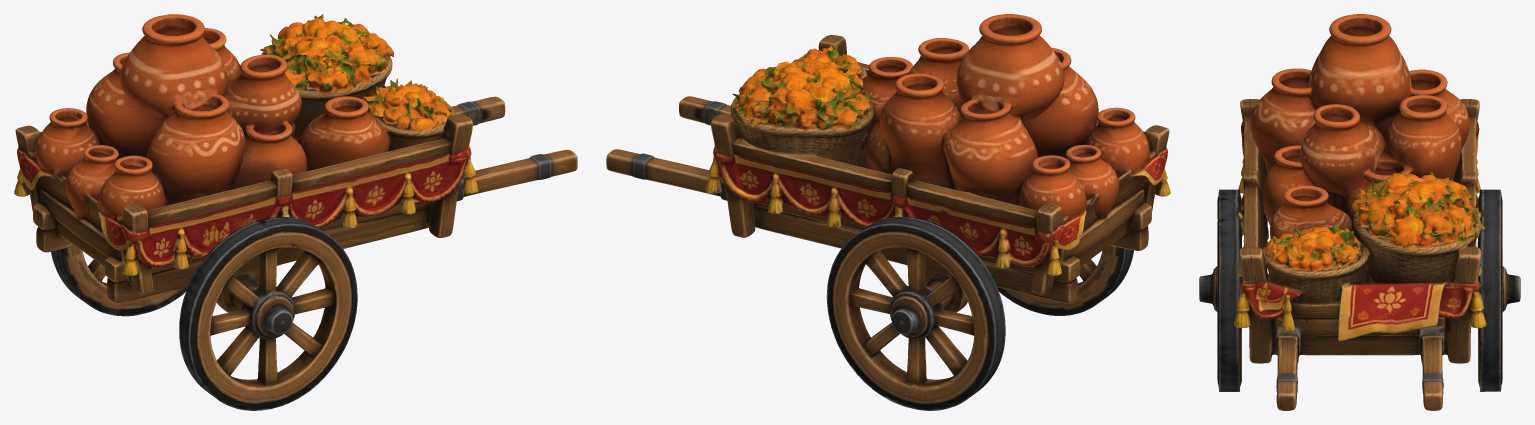
File: marigold_market_cart_mobile.glb
3 views of the same model, side by side, from view 1: azimuth 30°, elevation 25°; view 2: azimuth 150°, elevation 25°; view 3: azimuth 270°, elevation 25° (orthographic).
Size of the model in its own units: 1.9 by 1.31 by 1.12.
1 material, 1 textured.
